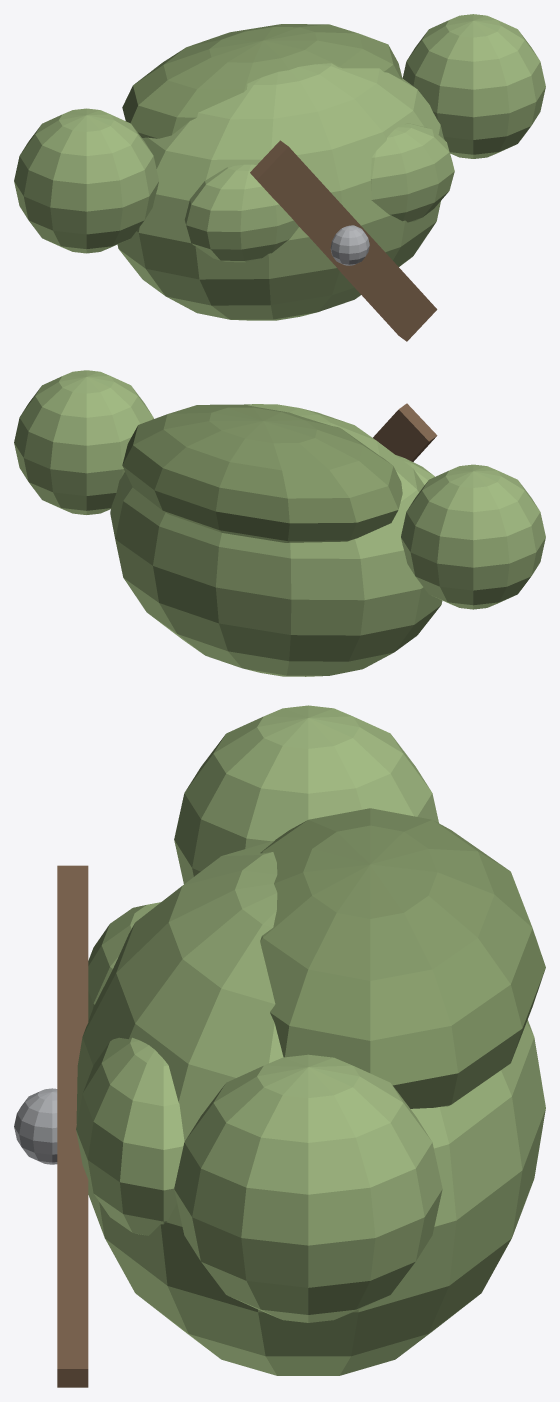
File: SM_Orc_Chest.fbx
3 views of the same model, one above another, from view 1: azimuth 30°, elevation 25°; view 2: azimuth 150°, elevation 25°; view 3: azimuth 270°, elevation 25° (orthographic). The views are drawn at different scales.
Visible parts, largest first — view 1: SM_Orc_Chest; view 2: SM_Orc_Chest; view 3: SM_Orc_Chest.
Boxes of the visible parts, <box> form: SM_Orc_Chest: <box>14,14,545,341</box>; SM_Orc_Chest: <box>14,370,545,676</box>; SM_Orc_Chest: <box>14,705,545,1387</box>.
Size of the model in its own units: 1.06 by 0.505 by 0.515.
